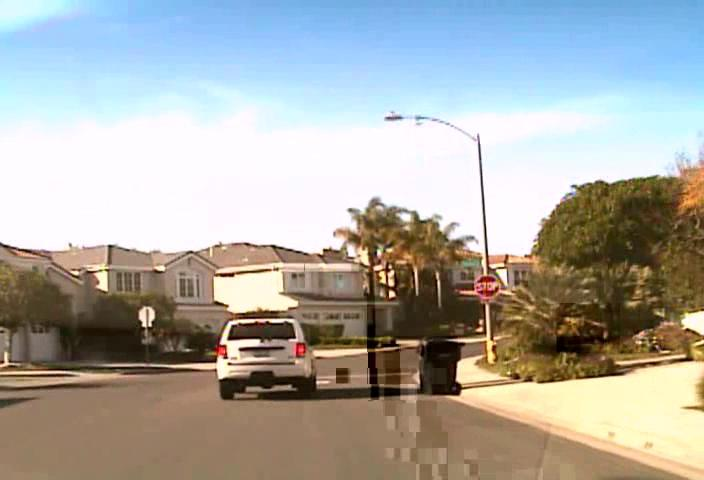stop: (474, 274, 499, 298)
